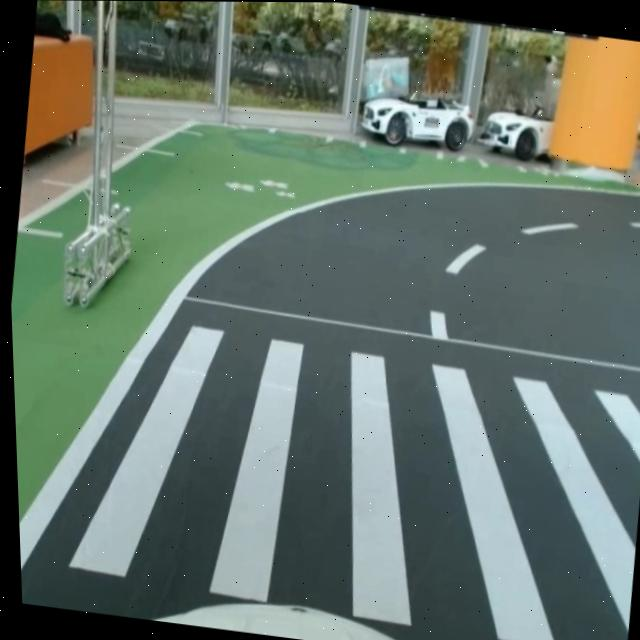traffic-light: (351, 5, 605, 45)
